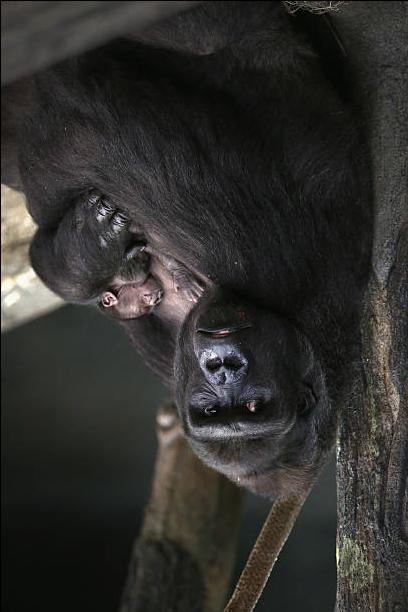gorille_Autres: (0, 11, 365, 540)
